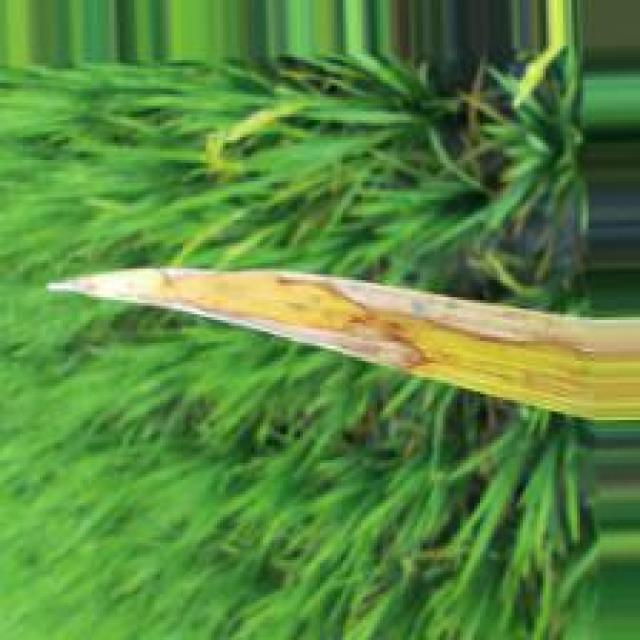Leaf_Scald: (57, 267, 637, 375)
